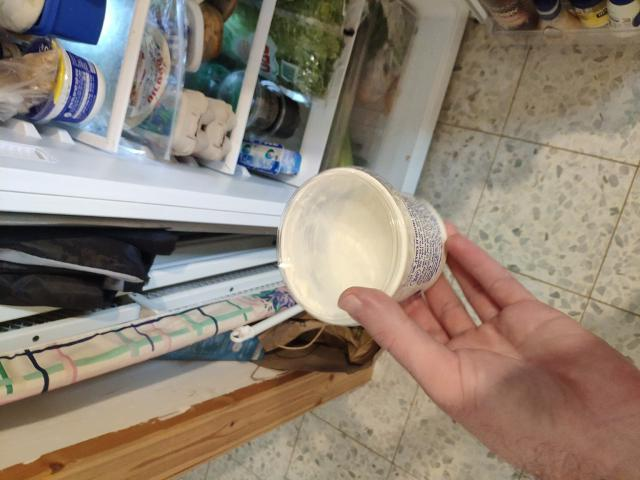cotage: (259, 190, 454, 302)
